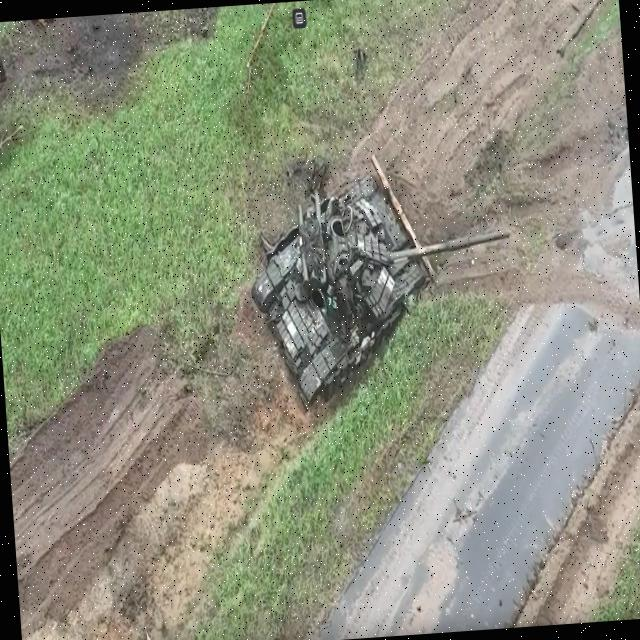MBT: (243, 161, 523, 416)
